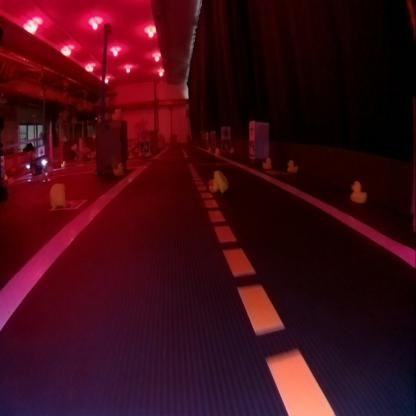Duckie: (207, 170, 227, 192), (49, 183, 65, 208), (350, 180, 366, 202), (286, 161, 297, 173), (113, 162, 124, 173), (263, 158, 271, 168), (228, 146, 234, 154), (216, 147, 221, 155), (207, 146, 212, 154)
Intersection sign: (249, 125, 255, 137), (222, 128, 229, 136)
QR code: (49, 200, 86, 209), (249, 141, 255, 155), (140, 141, 148, 151), (222, 139, 228, 150)
